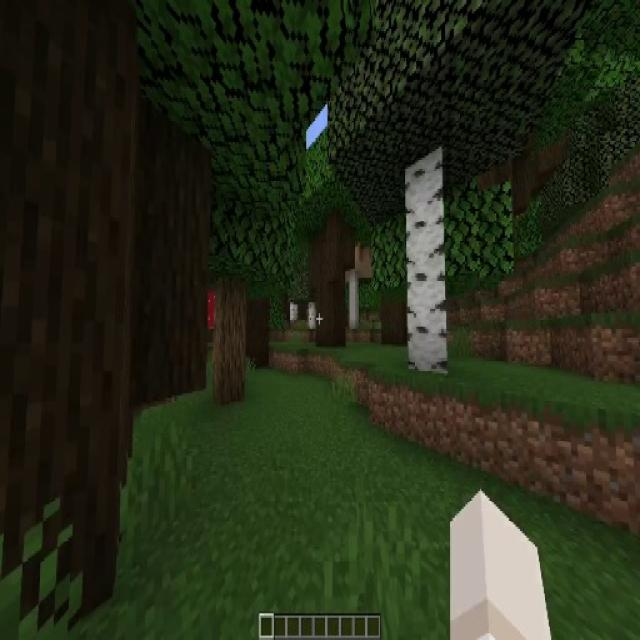birch: (328, 0, 548, 376)
birch_log: (407, 155, 449, 371), (213, 280, 247, 404), (249, 299, 270, 361), (308, 300, 315, 327), (290, 303, 297, 321)
dark_oak: (294, 134, 370, 344)
dark_oak_log: (0, 24, 137, 633), (129, 129, 211, 389), (312, 221, 355, 343), (382, 294, 406, 346)
oak: (168, 154, 292, 402)
